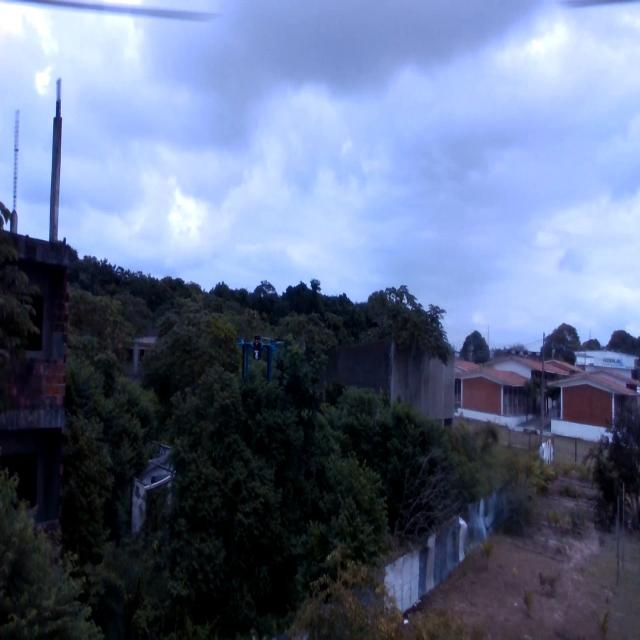-uav-: (236, 329, 282, 379)
